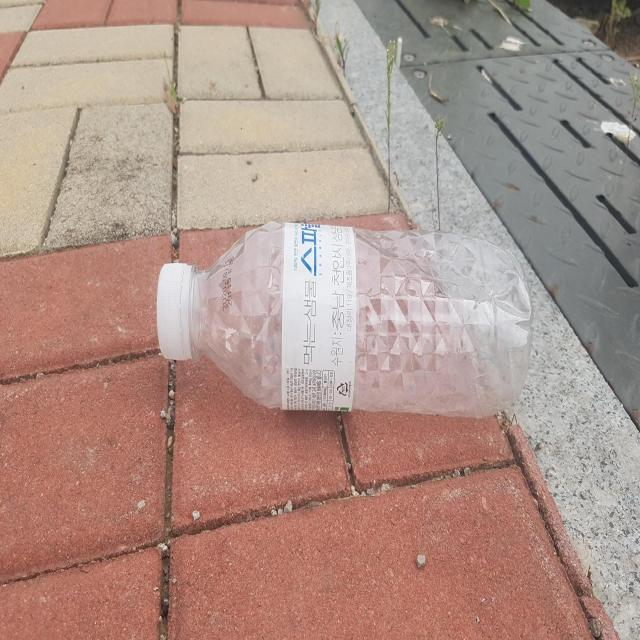plastic: (156, 221, 533, 417)
